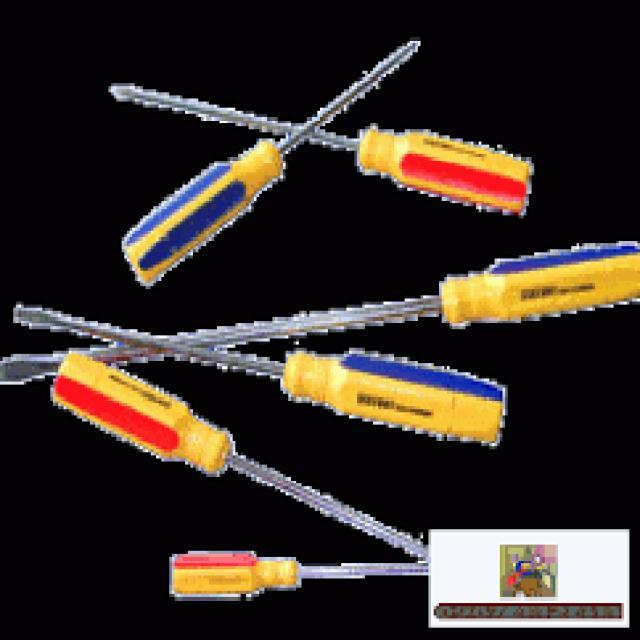screwdriver: (0, 238, 637, 386), (51, 350, 438, 566), (11, 300, 512, 454), (125, 40, 424, 282), (108, 82, 535, 222), (164, 555, 436, 606)
